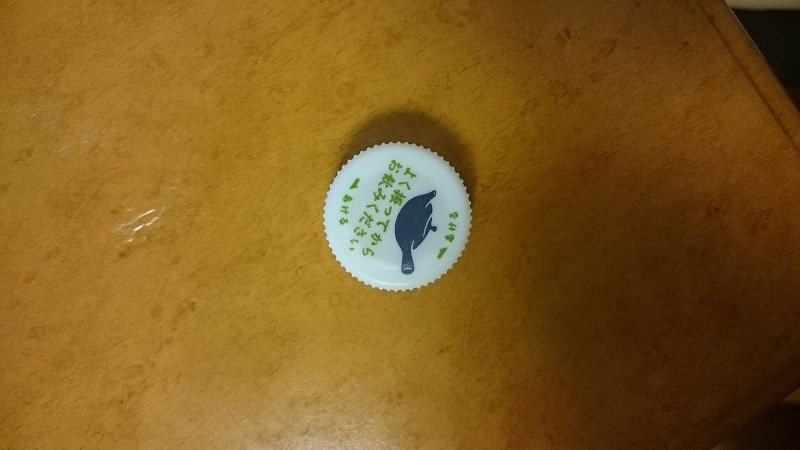A: (317, 139, 483, 295)
